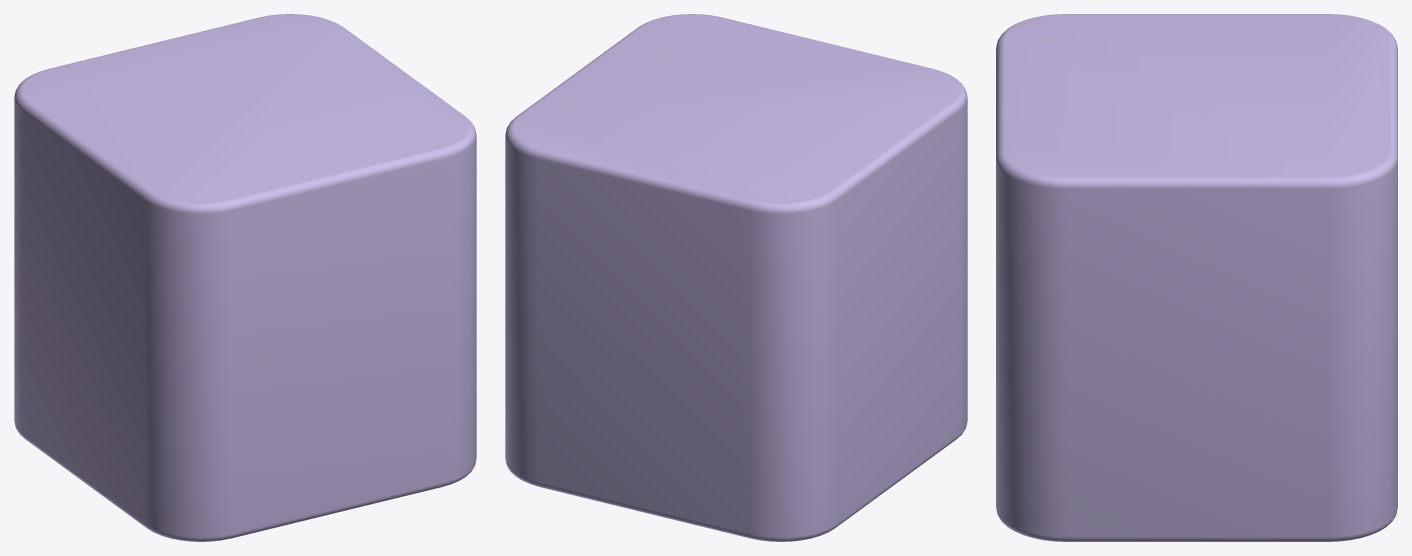
3 views of the same model, side by side, from view 1: azimuth 30°, elevation 25°; view 2: azimuth 150°, elevation 25°; view 3: azimuth 270°, elevation 25° (orthographic). The views are drawn at different scales.
Visible parts, largest first — view 1: Cube; view 2: Cube; view 3: Cube.
Boxes of the visible parts, left/top/right/bottom form: Cube: left=14, top=14, right=476, bottom=541; Cube: left=505, top=14, right=967, bottom=541; Cube: left=996, top=14, right=1397, bottom=541.
Size of the model in its own units: 100 by 100 by 100.
